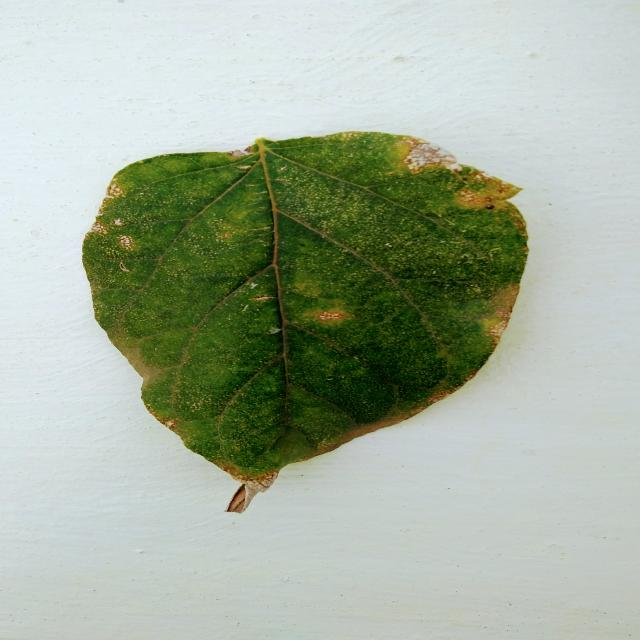Parijatha: (82, 132, 527, 512)
